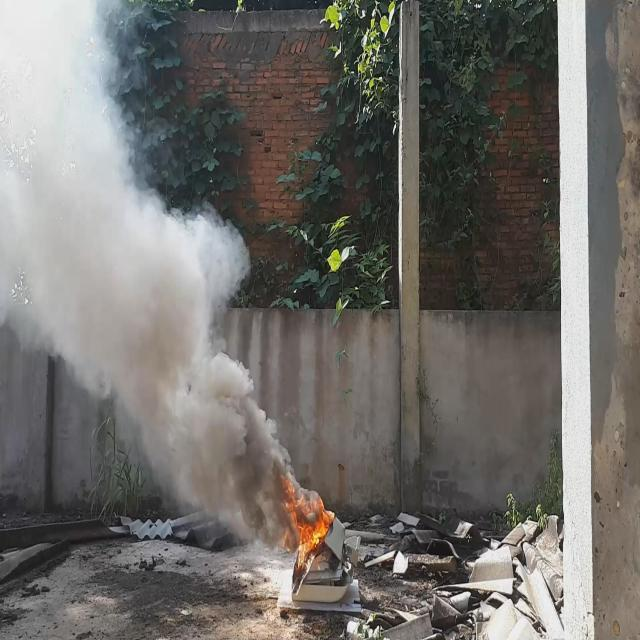Fire: (276, 466, 337, 570)
Smoke: (0, 0, 322, 557)
